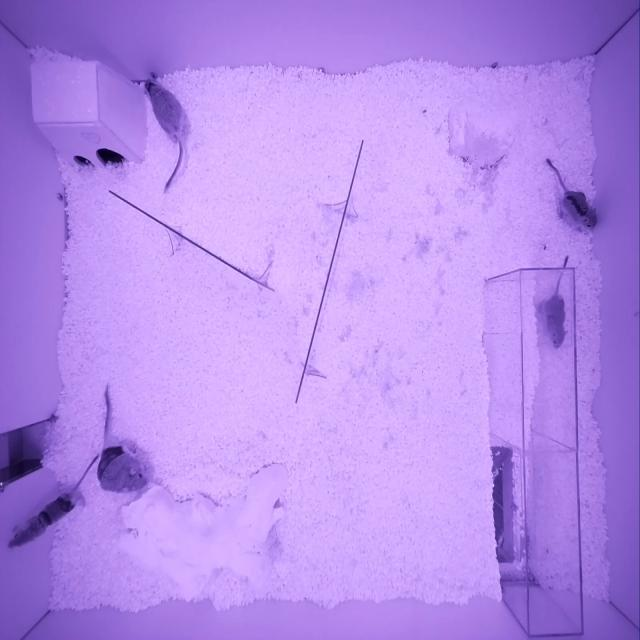adult_back: (97, 446, 146, 492)
adult_front: (144, 80, 185, 135)
pup_fluffy: (545, 294, 568, 349)
pup_h_stripe: (7, 492, 76, 548)
pup_v_stripe: (563, 191, 597, 229)
